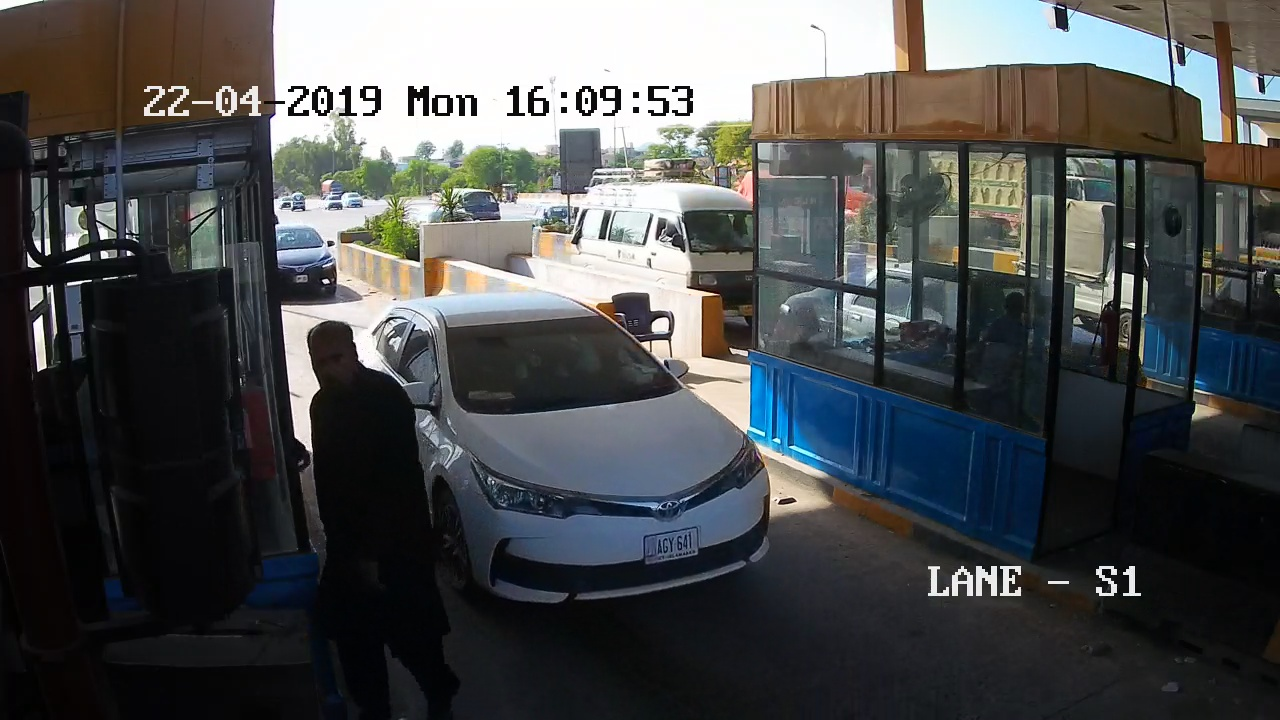Number Plate (Car): (644, 527, 699, 560)
